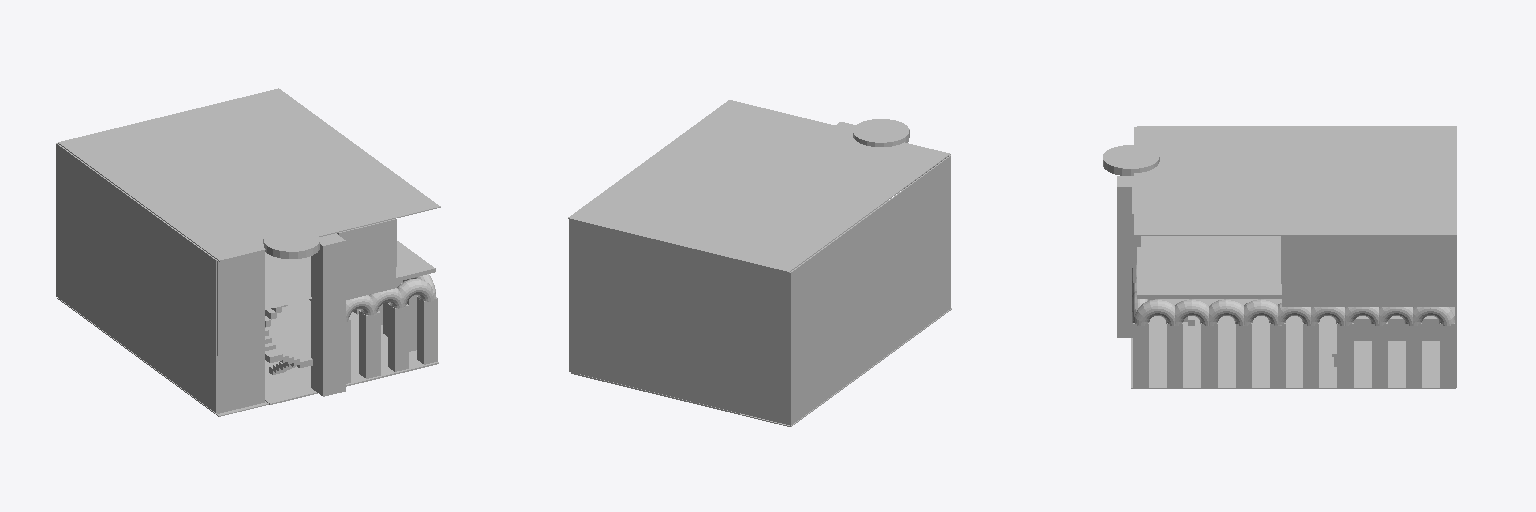
File: fachada.obj
The picture shows the model from 3 angles: view 1: azimuth 30°, elevation 25°; view 2: azimuth 150°, elevation 25°; view 3: azimuth 270°, elevation 25°; orthographic projection.
Visible parts, largest first — view 1: pCube83; view 2: pCube83; view 3: pCube83.
Boxes of the visible parts, <box> form: pCube83: <box>56,88,440,416</box>; pCube83: <box>568,100,951,426</box>; pCube83: <box>1103,126,1456,388</box>.
Bounding box in the file's own units: 48.23 × 33.05 × 66.37.